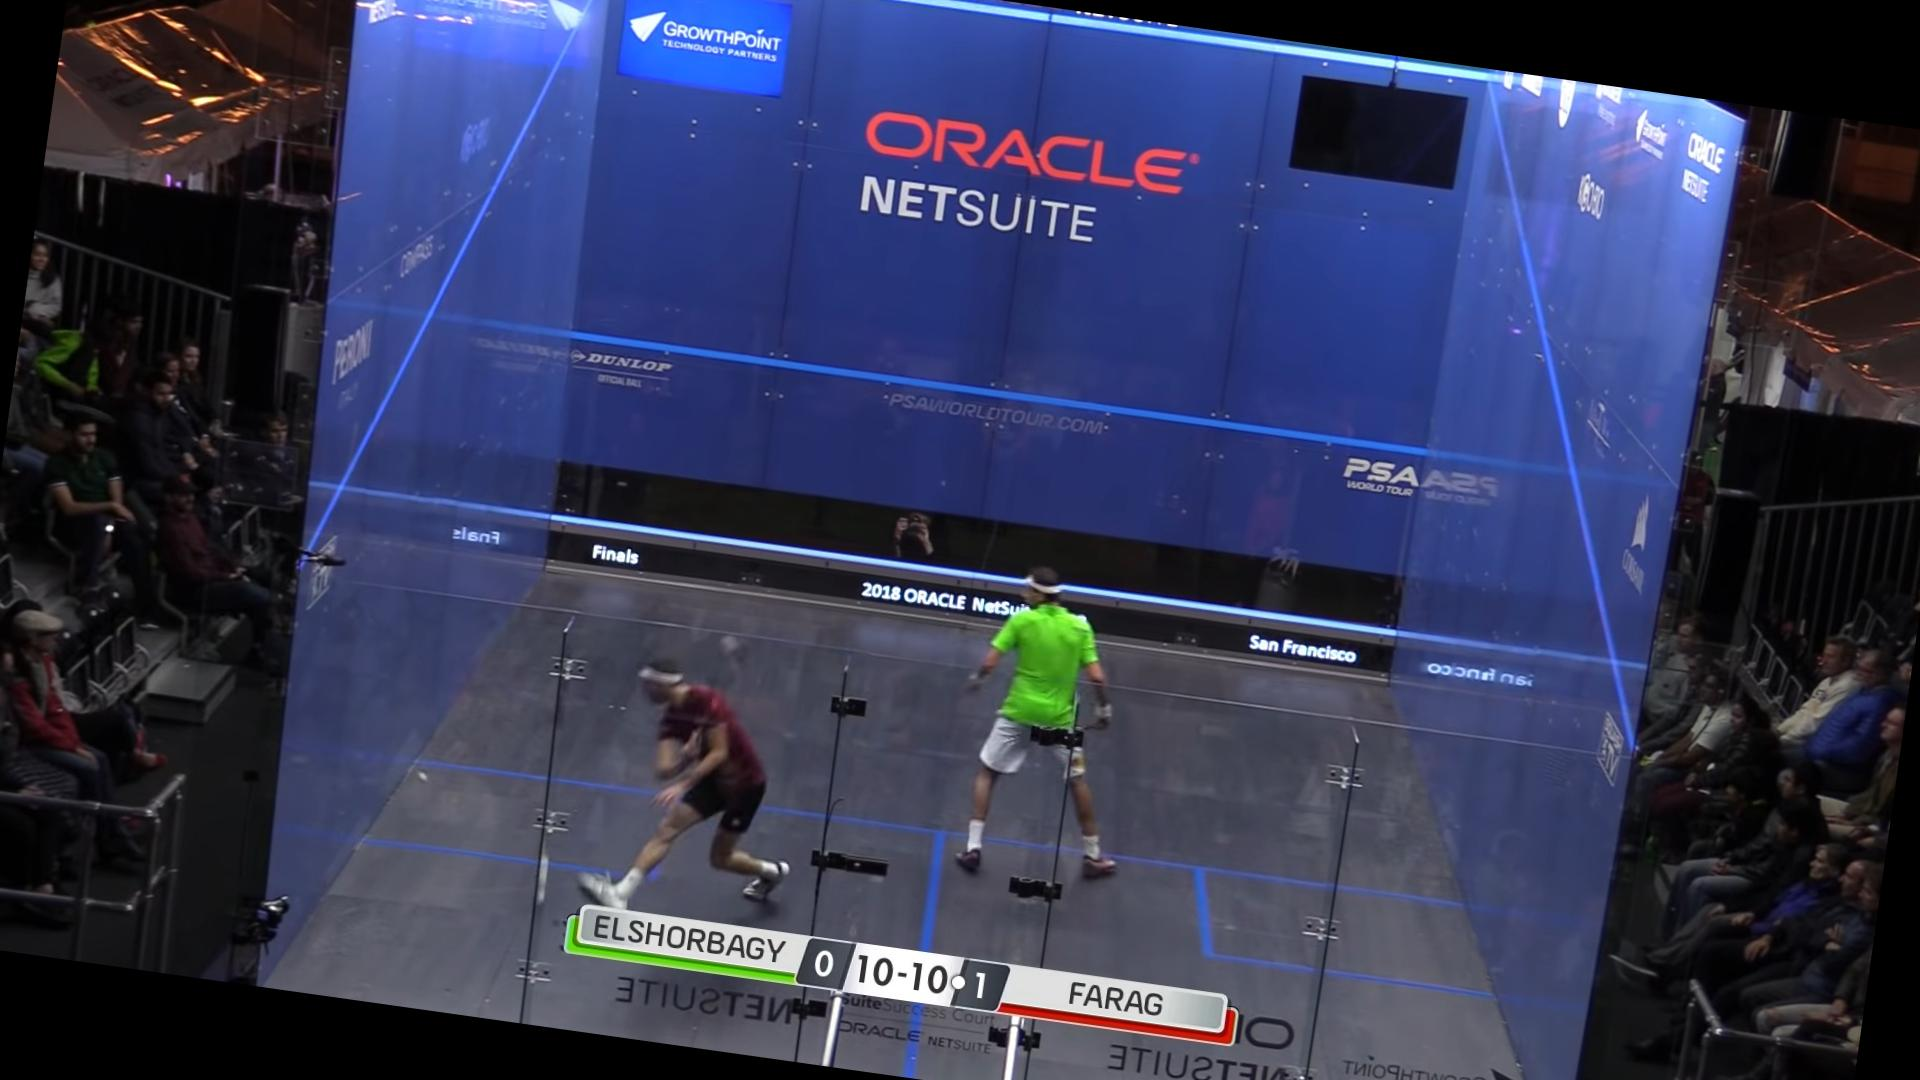Squash-Ball: (413, 765, 439, 793)
